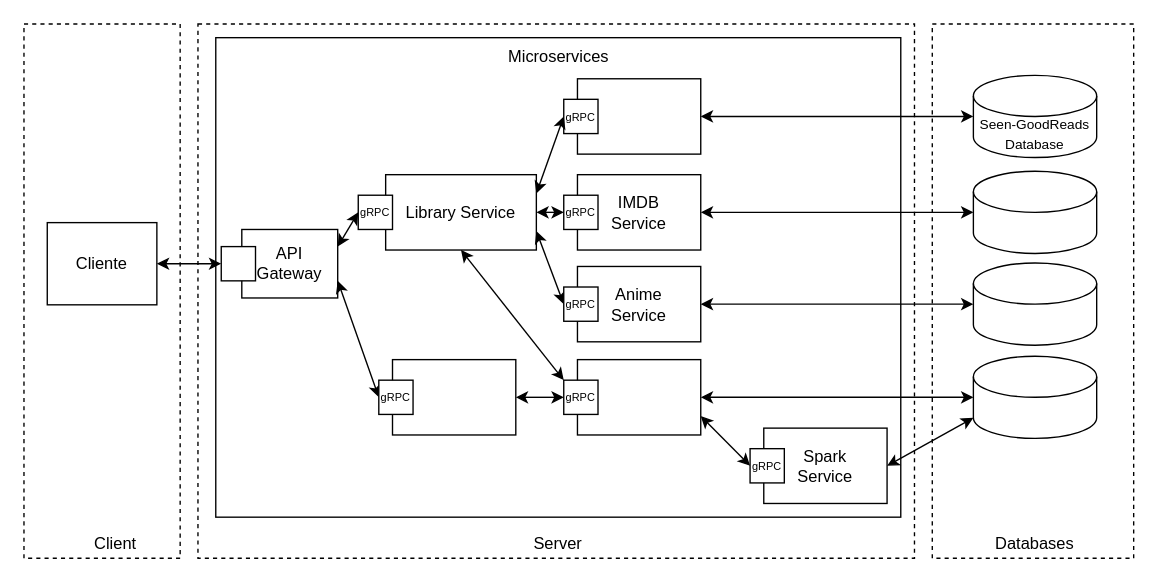
Some shapes in this 1158 by 582 pixel diagram are drawn without their labels. Here are the shapes that lost their labels. From the top down, the box of each, then its label:
(576, 77, 701, 154): Book Service
(972, 170, 1097, 253): Seen-IMDB Database
(220, 245, 256, 281): REST API
(972, 262, 1097, 345): Seen-MyAnimeList Database
(391, 358, 516, 435): SignIn Service
(576, 358, 701, 435): Account Service
(972, 355, 1097, 438): Seen Database
